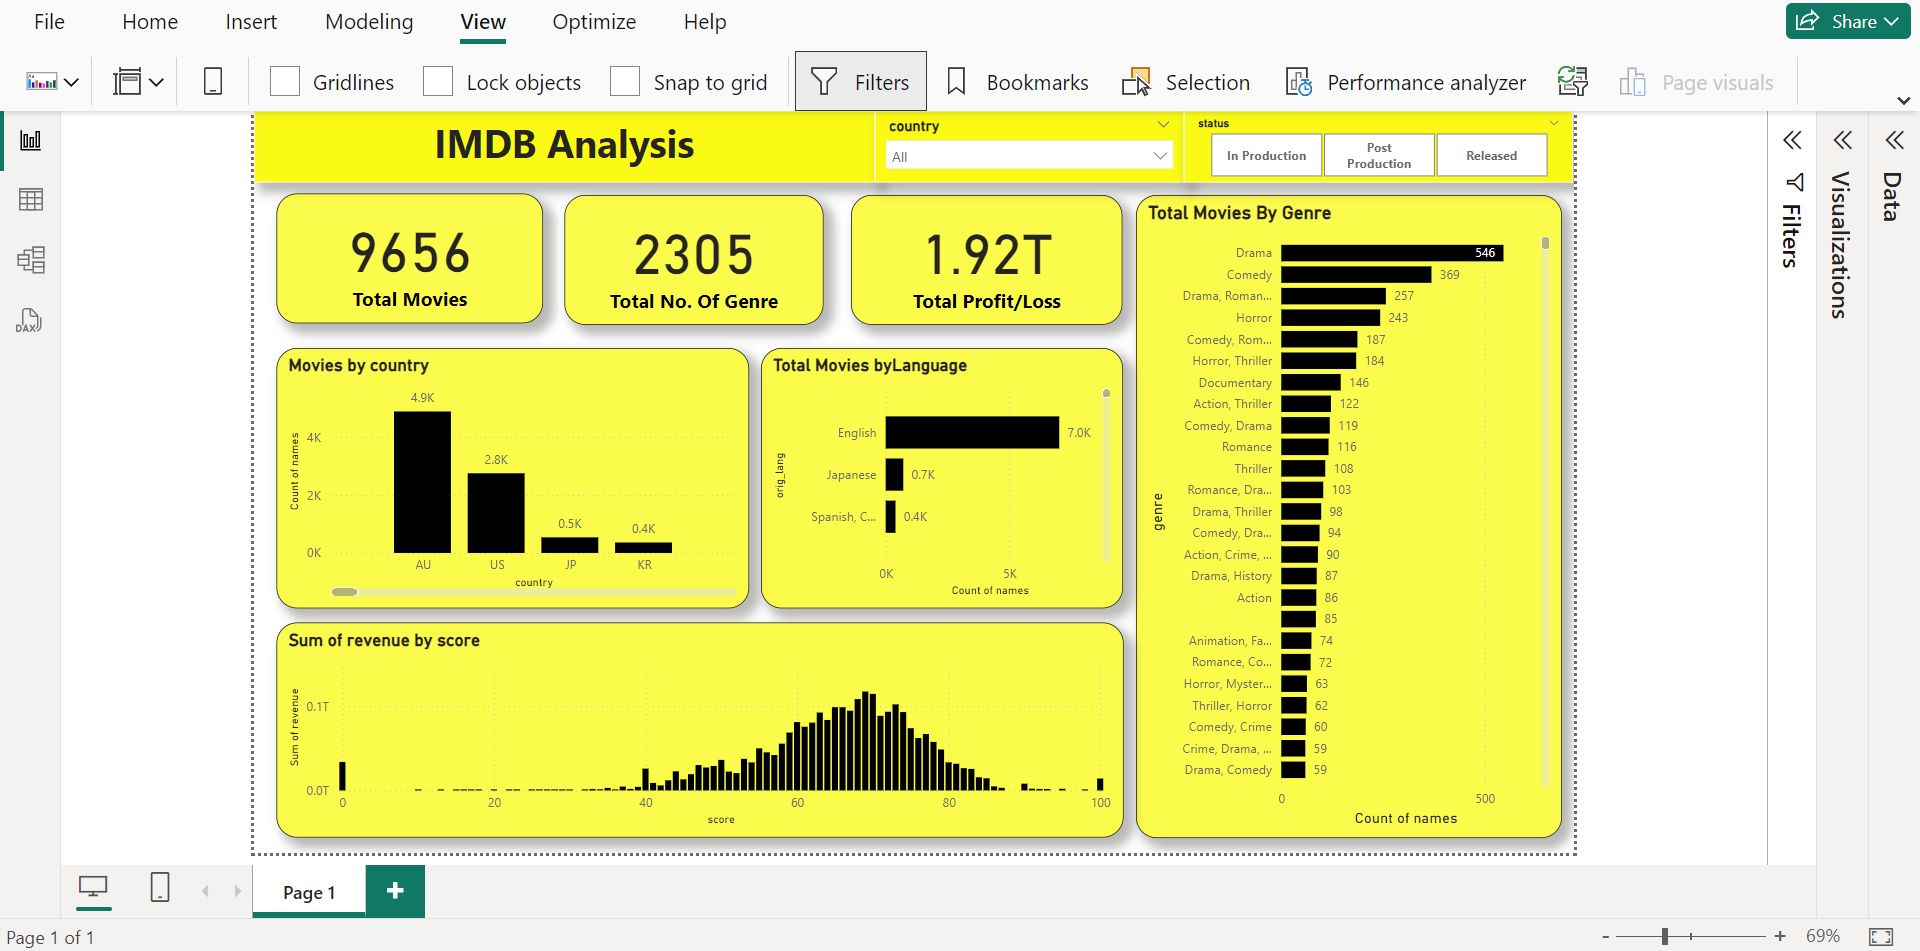

What the dashboard file says about the page in this screenshot:
{"tool":"powerbi","page":{"name":"Page 1","canvas":[1280,720],"ordinal":0},"visuals":[{"type":"textbox","box":[0,0,602.7,69.7],"z":0},{"type":"card","fields":{"Values":["Count(IMDB.names)"]},"box":[21.2,80.3,258.9,125.7],"z":1000},{"type":"card","fields":{"Values":["Sum(IMDB.Sum of Profit/Loss)"]},"box":[579.9,81.8,263.5,125.7],"z":2000},{"type":"card","fields":{"Values":["Count(IMDB.genre)"]},"box":[301.3,81.8,251.4,125.7],"z":3000},{"type":"columnChart","title":"Movies by country","fields":{"Category":["IMDB.country"],"Y":["CountNonNull(IMDB.names)"]},"box":[21.2,230.2,458.8,252.9],"z":4000},{"type":"barChart","title":"Total Movies By Genre","fields":{"Category":["IMDB.genre"],"Y":["Count(IMDB.names)"]},"box":[855.5,81.8,413.4,623.9],"z":5000},{"type":"clusteredBarChart","title":"Total Movies byLanguage","fields":{"Category":["IMDB.orig_lang"],"Y":["Count(IMDB.names)"]},"box":[492.1,230.2,351.3,252.9],"z":6000},{"type":"clusteredColumnChart","fields":{"Category":["IMDB.score"],"Y":["Sum(IMDB.revenue)"]},"box":[21.2,496.7,822.2,209],"z":7000},{"type":"slicer","fields":{"Values":["IMDB.country"]},"box":[602.7,0,299.8,69.7],"z":8000},{"type":"slicer","fields":{"Values":["IMDB.status"]},"box":[902.5,0,377,69.7],"z":9000}]}

Visuals, with their boxes on the page's 1280x720 design canvas (x1, y1, x2, y2). These are canvas units, not pixel positions in the 1920x951 screenshot, which may show the page scaled, cropped or inside an application window:
textbox: l=0, t=0, r=603, b=70
card - Count(IMDB.names): l=21, t=80, r=280, b=206
card - Sum(IMDB.Sum of Profit/Loss): l=580, t=82, r=843, b=208
card - Count(IMDB.genre): l=301, t=82, r=553, b=208
"Movies by country" columnChart: l=21, t=230, r=480, b=483
"Total Movies By Genre" barChart: l=856, t=82, r=1269, b=706
"Total Movies byLanguage" clusteredBarChart: l=492, t=230, r=843, b=483
clusteredColumnChart - IMDB.score x Sum(IMDB.revenue): l=21, t=497, r=843, b=706
slicer - IMDB.country: l=603, t=0, r=902, b=70
slicer - IMDB.status: l=902, t=0, r=1280, b=70
